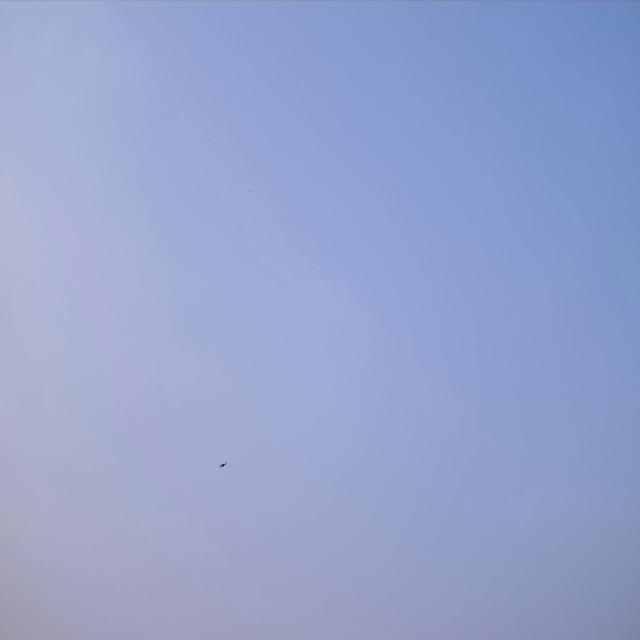UAV: (219, 461, 227, 469)
